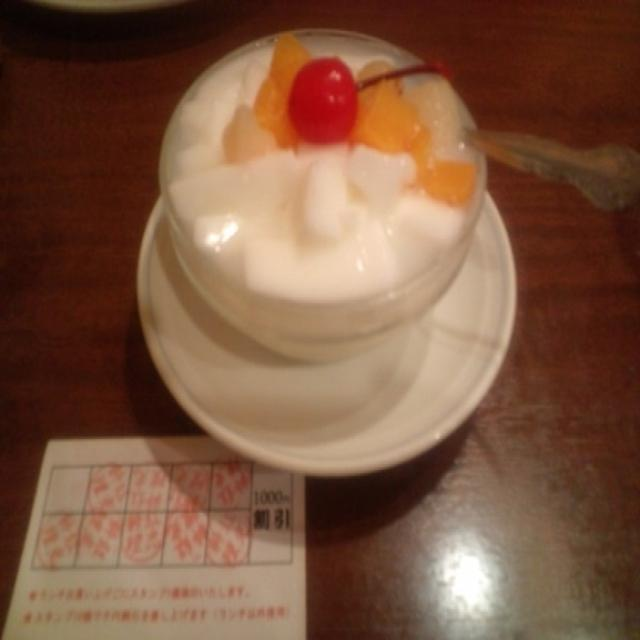汤锅炖物: (11, 12, 615, 630)
